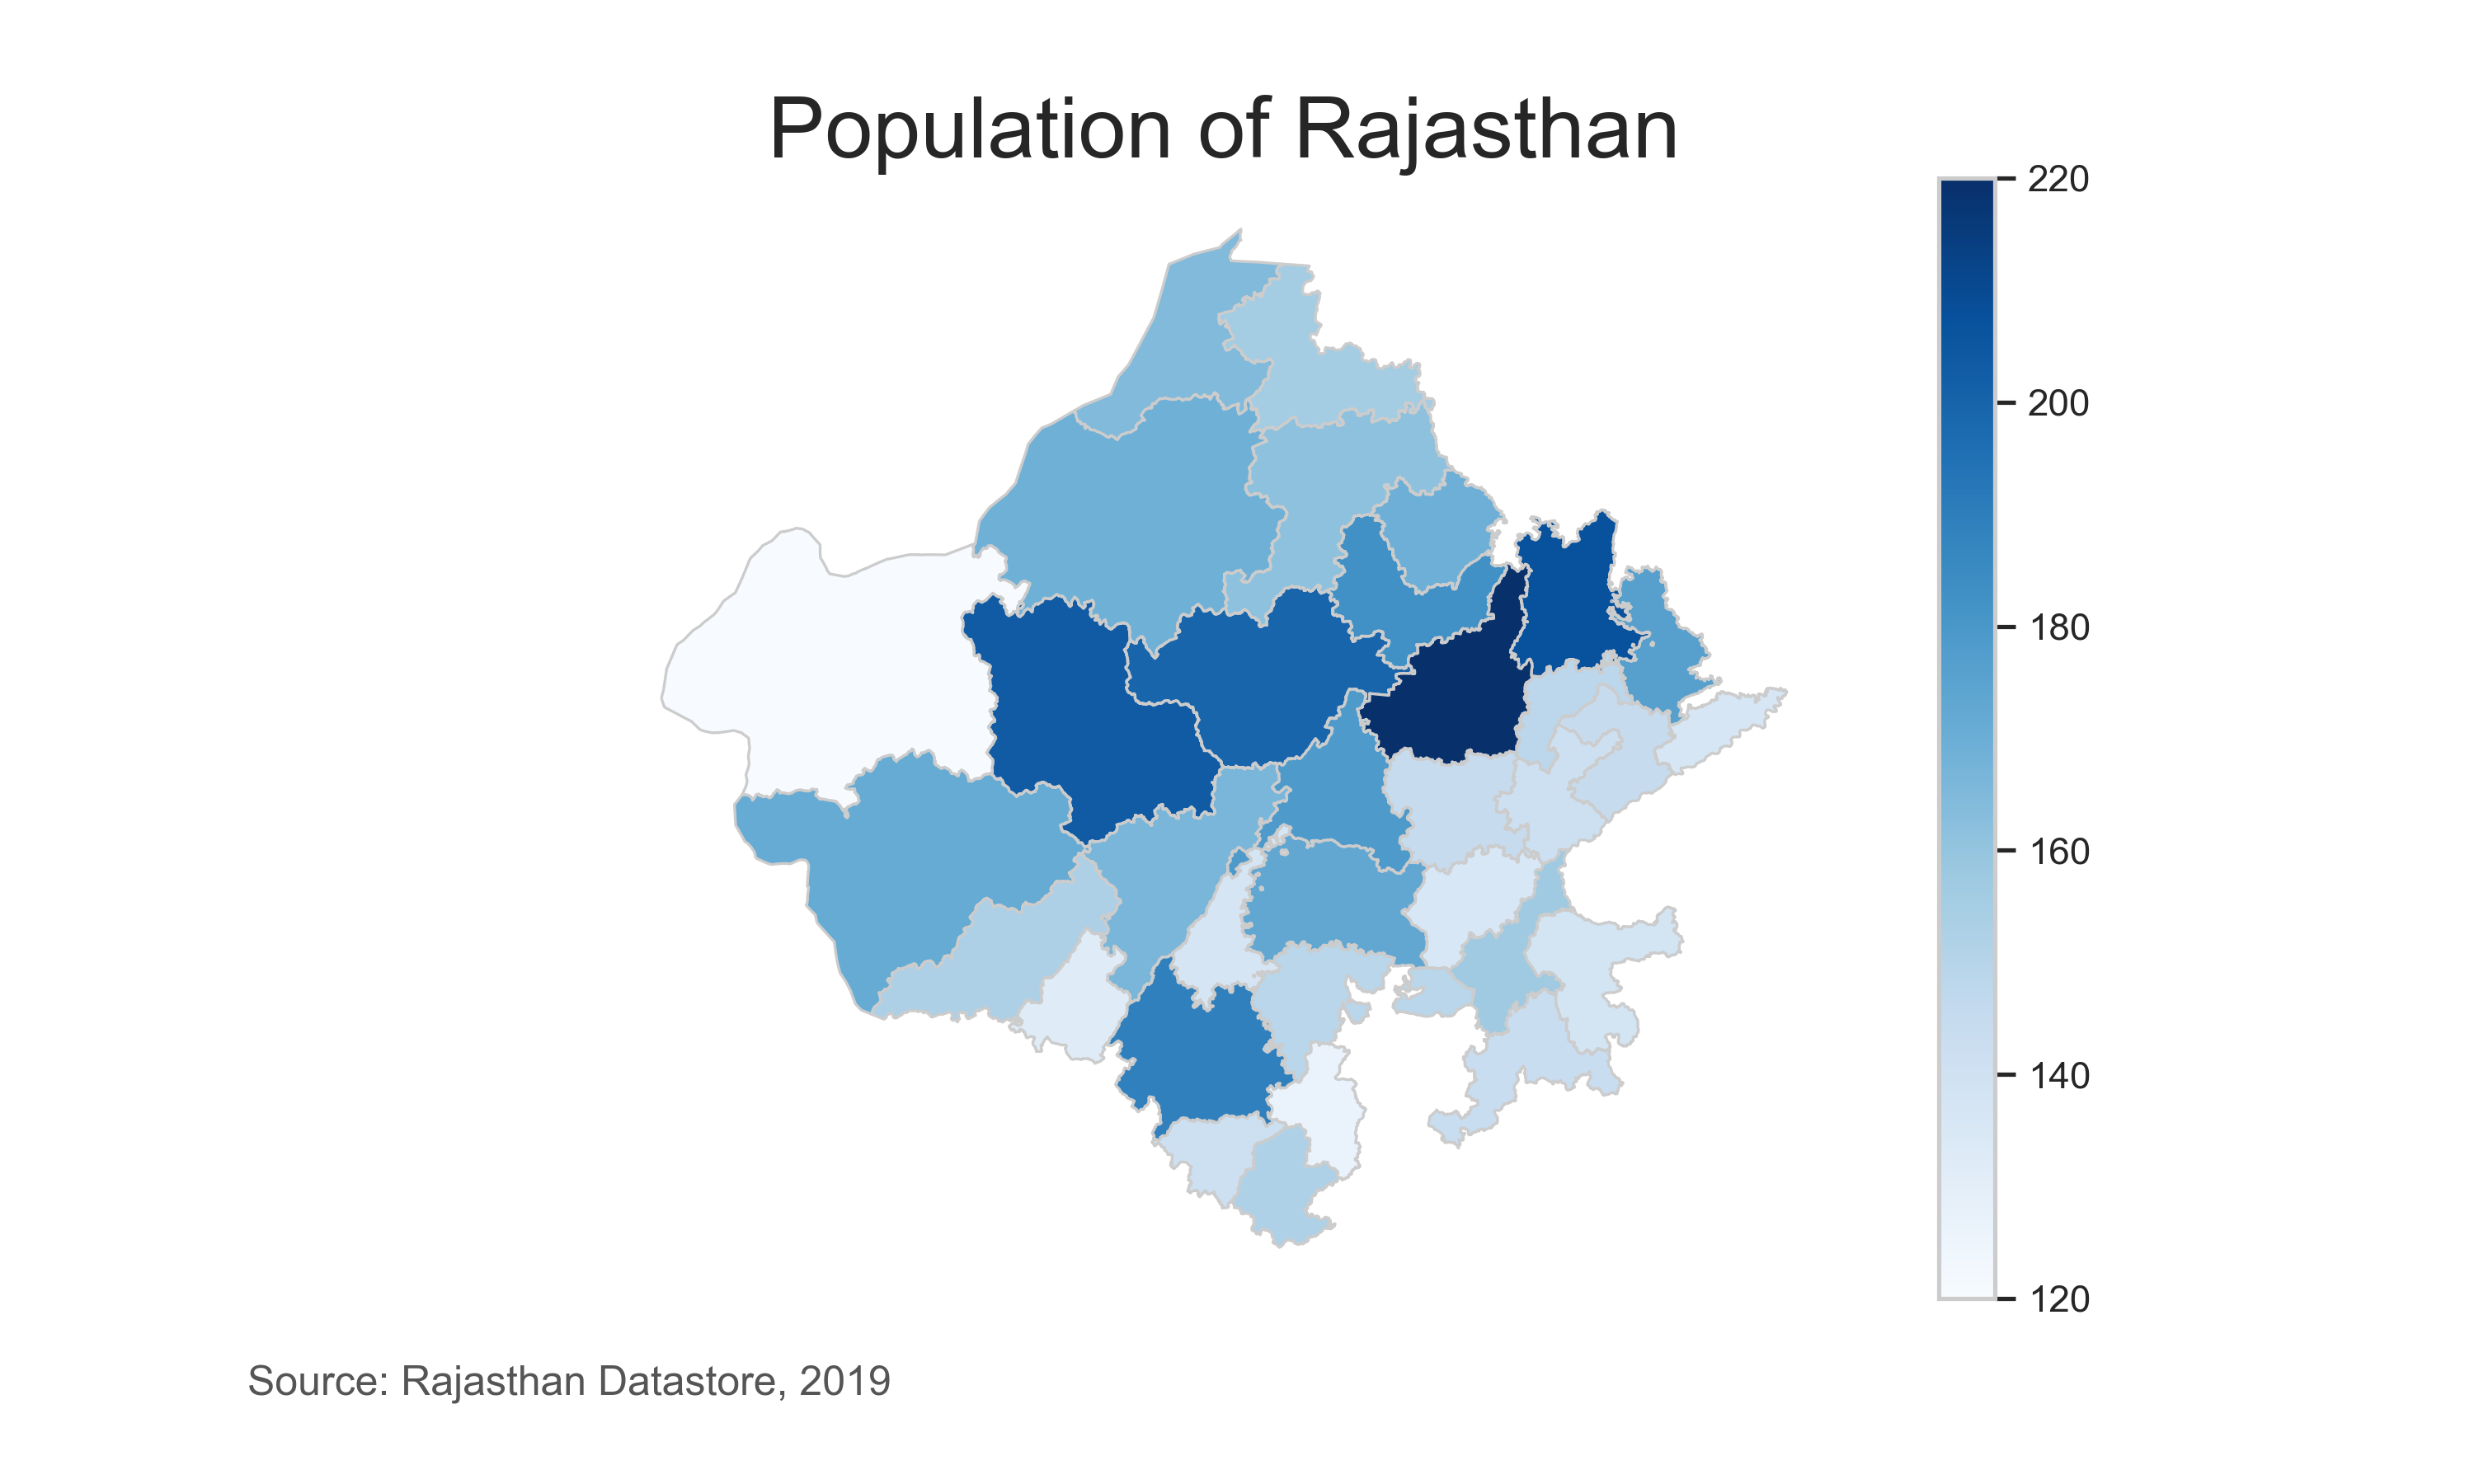

The page's visual inventory and layout, read from the dashboard file:
{"tool":"powerbi","page":{"name":"Map data plot","canvas":[1280,720],"ordinal":2},"visuals":[{"type":"map","fields":{"Category":["Table1.DIST"],"Y":["Avg(Table1.LAT)"],"X":["Avg(Table1.LONG)"],"Series":["Table1.POP"],"Size":["Sum(Table1.POP)"]},"box":[9.5,0,668.5,593.9],"z":1}]}

Visuals, with their boxes on the page's 1280x720 design canvas (x1, y1, x2, y2). These are canvas units, not pixel positions in the 2474x1484 screenshot, which may show the page scaled, cropped or inside an application window:
map - Table1.DIST x Avg(Table1.LAT): bbox=[10, 0, 678, 594]
